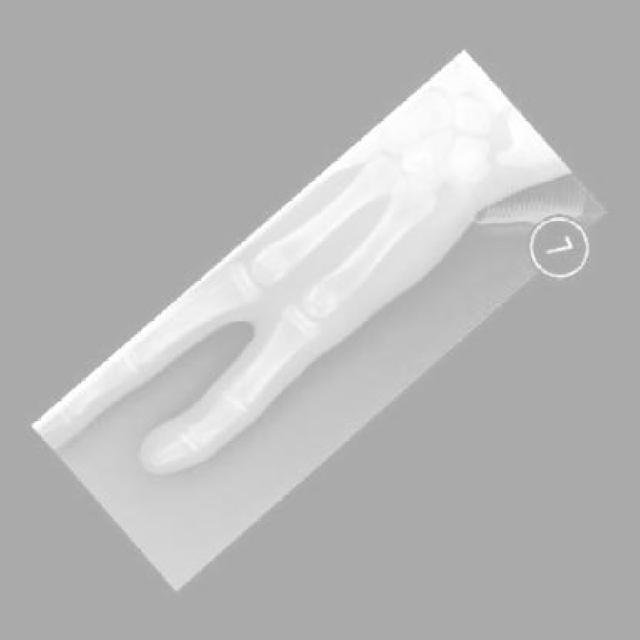Fracture: (169, 431, 197, 460)
